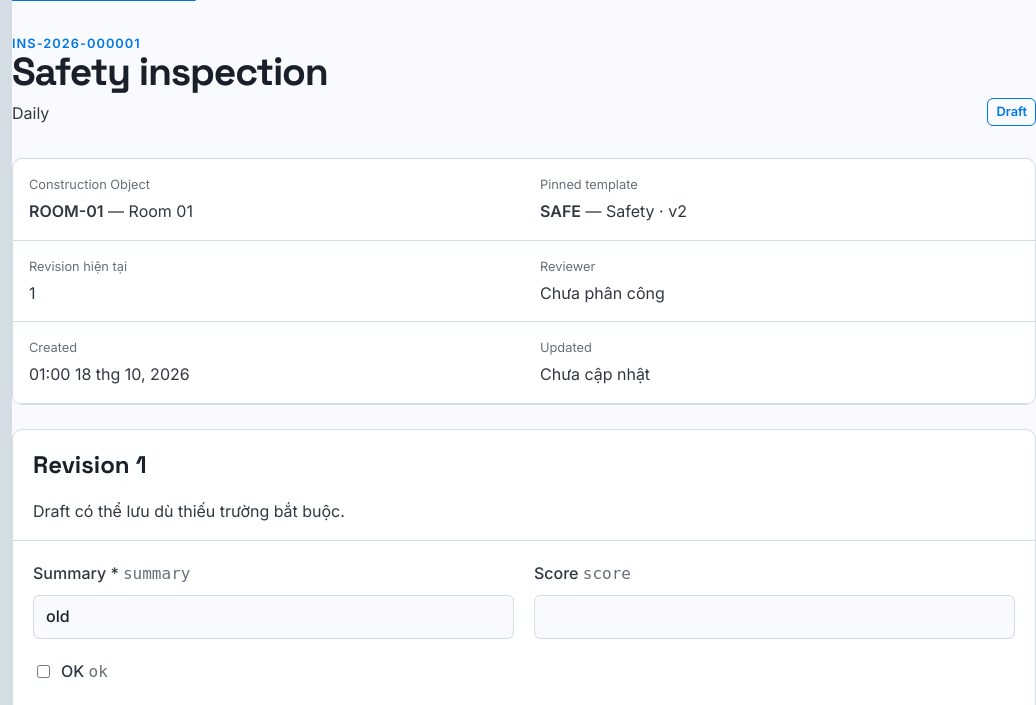
Scenario: Inspection Draft UI › reloads a conflict as read-only when the process is no longer Draft
Type " changed" into the field labelled "Summary * summary" at (274, 617), box top-left (33, 595), bottom-right (514, 639)
(page scrolled)
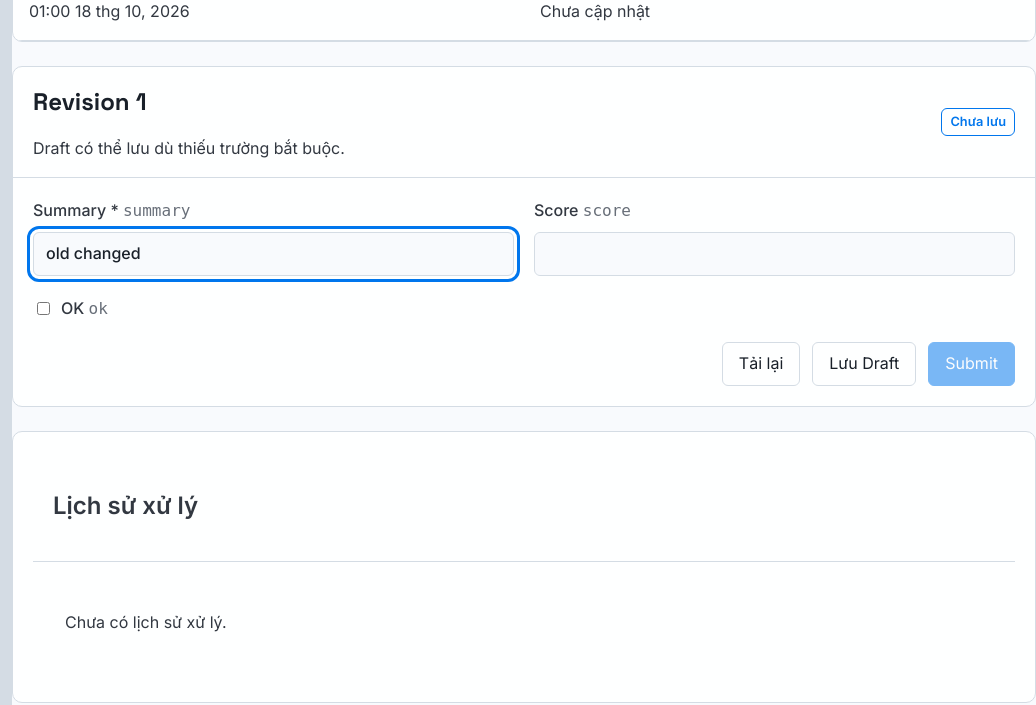
Click the button "Lưu Draft" at (864, 364), box top-left (812, 342), bottom-right (916, 386)
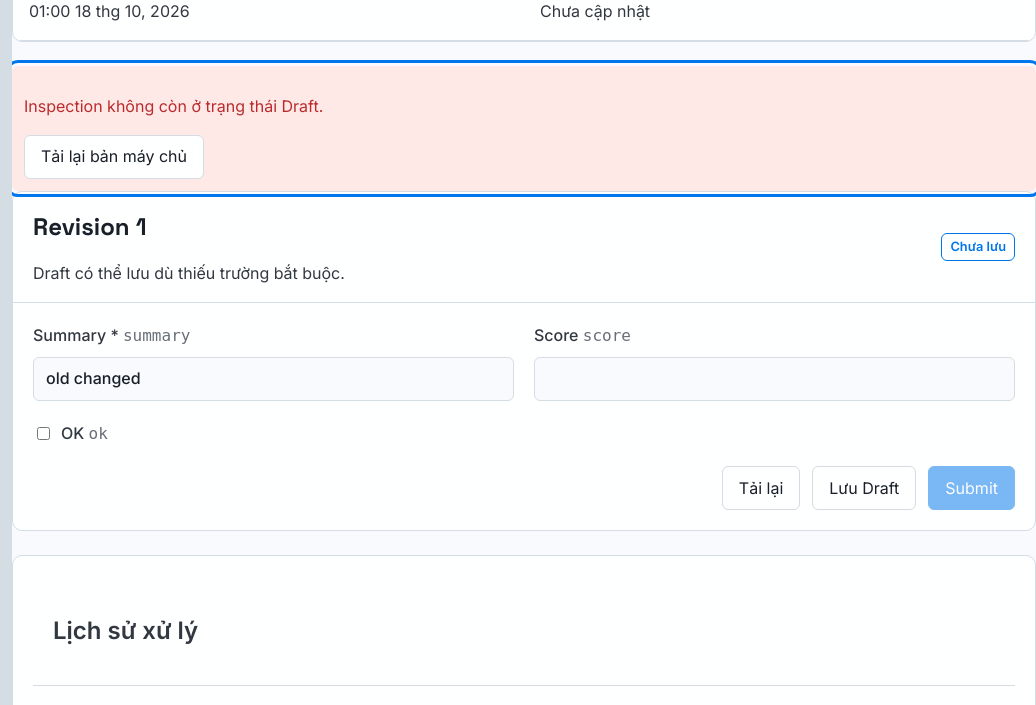
Result: the message "Inspection không còn ở trạng thái Draft. Tải lại bản máy chủ" is shown at top-left (12, 66), bottom-right (1035, 191)
Click the button "Tải lại bản máy chủ" at (114, 157), box top-left (24, 135), bottom-right (204, 179)
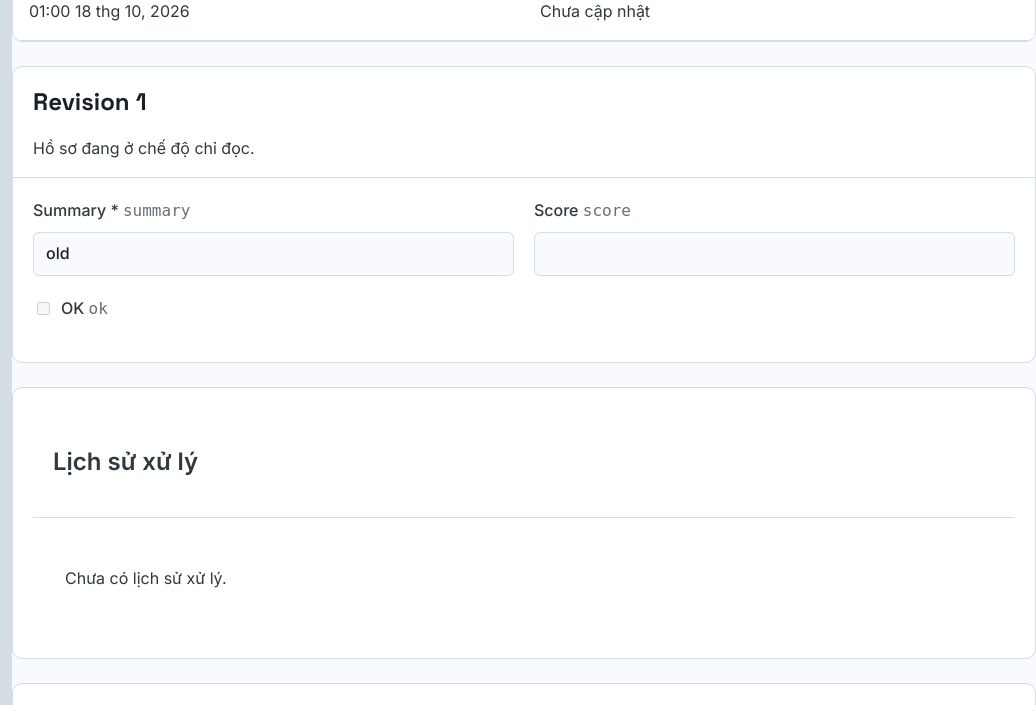
Result: the text "Hồ sơ đang ở chế độ chỉ đọc." is shown at top-left (33, 136), bottom-right (254, 161)
Result: the button "Lưu Draft" is gone
Result: the field labelled "Summary * summary" is disabled at top-left (33, 232), bottom-right (514, 276)
